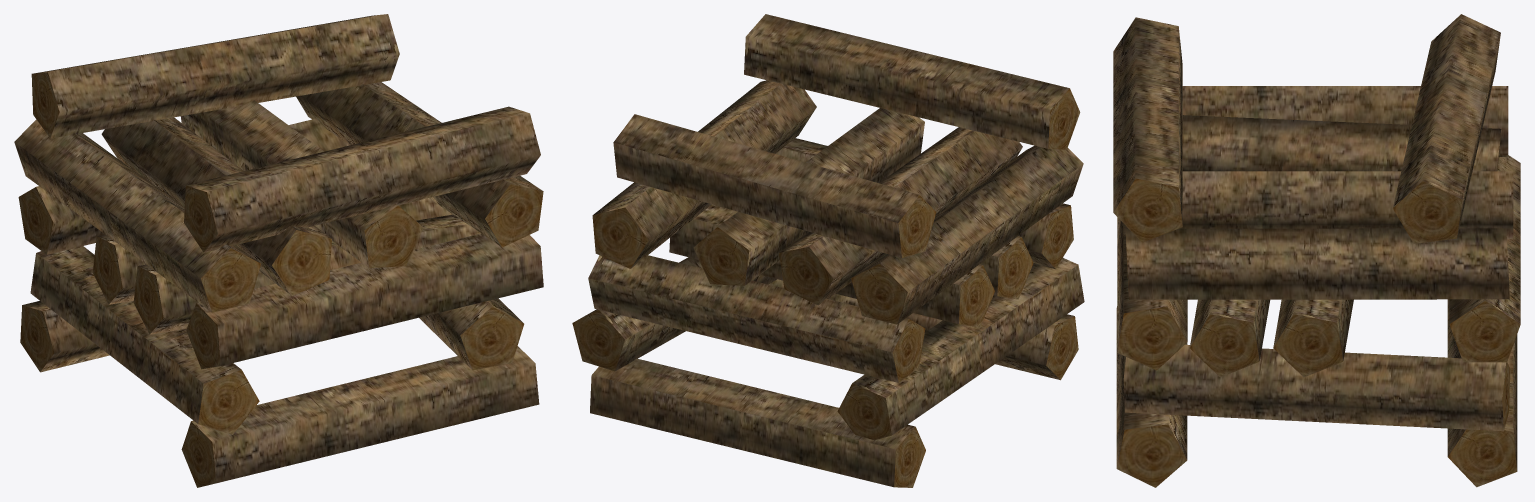
Rendered from Log_stack_b.fbx.
3 renders of one model, left to right at view 1: azimuth 30°, elevation 25°; view 2: azimuth 150°, elevation 25°; view 3: azimuth 270°, elevation 25°, orthographic. The views are drawn at different scales.
Parts seen in each view (by area): view 1: log8, log9, log2, log3, log6, log14, log11, log5, log10, log12, log13, log4 (+2 smaller); view 2: log8, log9, log4, log1, log6, log14, log5, log11, log10, log7, log13, log2 (+2 smaller); view 3: log5, log13, log10, log9, log8, log11, log6, log4, log2, log3, log7, log12 (+1 smaller).
Part boxes in pixels (box(x1,y1,x2,y2)): log8: box(184, 106, 540, 252); log9: box(31, 14, 399, 138); log2: box(181, 346, 539, 487); log3: box(186, 233, 543, 369); log6: box(14, 119, 260, 312); log14: box(30, 246, 259, 434); log11: box(101, 117, 331, 295); log5: box(296, 82, 543, 247); log10: box(180, 100, 423, 267); log12: box(133, 214, 480, 334); log13: box(419, 298, 524, 370); log4: box(18, 118, 349, 254); log8: box(744, 14, 1080, 149); log9: box(613, 114, 936, 257); log4: box(588, 254, 925, 382); log1: box(590, 358, 925, 487); log6: box(851, 145, 1083, 324); log14: box(837, 258, 1084, 440); log5: box(592, 80, 816, 268); log11: box(779, 127, 1022, 305); log10: box(693, 108, 924, 285); log7: box(669, 204, 994, 327); log13: box(572, 257, 776, 371); log2: box(768, 279, 1078, 380); log5: box(1125, 228, 1509, 299); log13: box(1123, 344, 1510, 431); log10: box(1179, 171, 1513, 239); log9: box(1393, 14, 1500, 243); log8: box(1113, 17, 1182, 242); log11: box(1182, 115, 1501, 171); log6: box(1182, 86, 1508, 156); log4: box(1449, 155, 1520, 362); log2: box(1116, 306, 1187, 487); log3: box(1117, 217, 1187, 370); log7: box(1273, 299, 1353, 377); log12: box(1189, 299, 1270, 377).
Size of the model in its own units: 568 by 460 by 543.
1 material, 1 textured.
